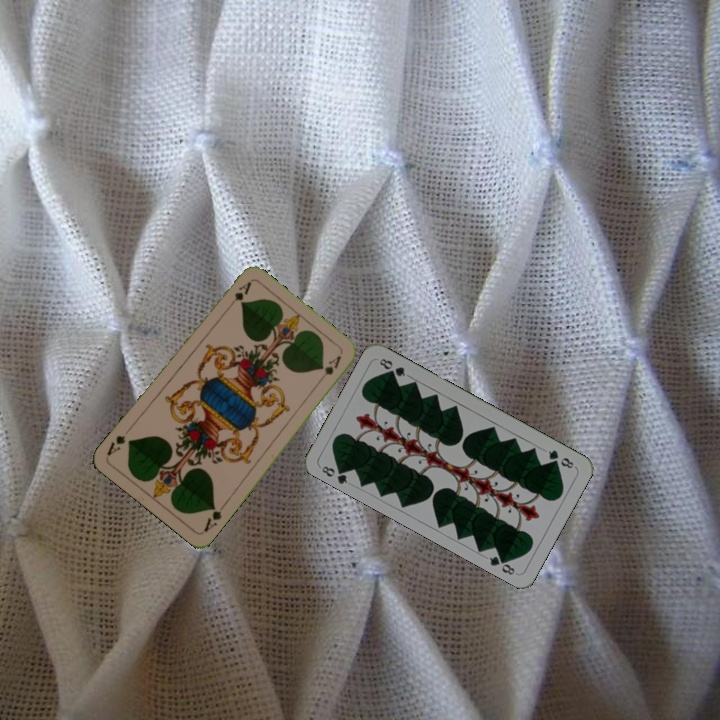G8: (544, 446, 576, 471), (318, 461, 350, 486)
GA: (223, 277, 254, 312), (200, 499, 228, 535)
